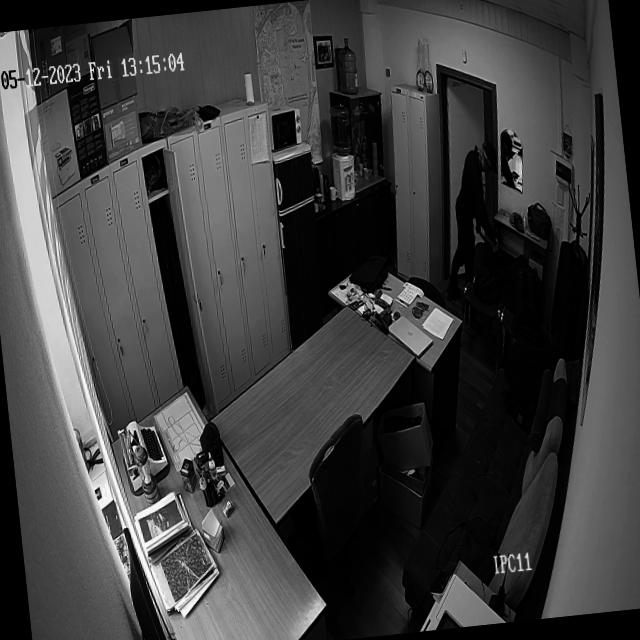gun: (474, 218, 518, 294)
person with a gun: (430, 135, 520, 301)
